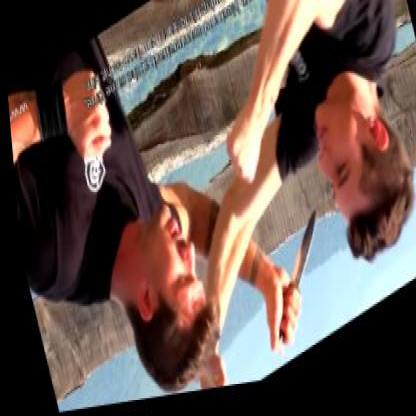knife: (237, 208, 340, 372)
